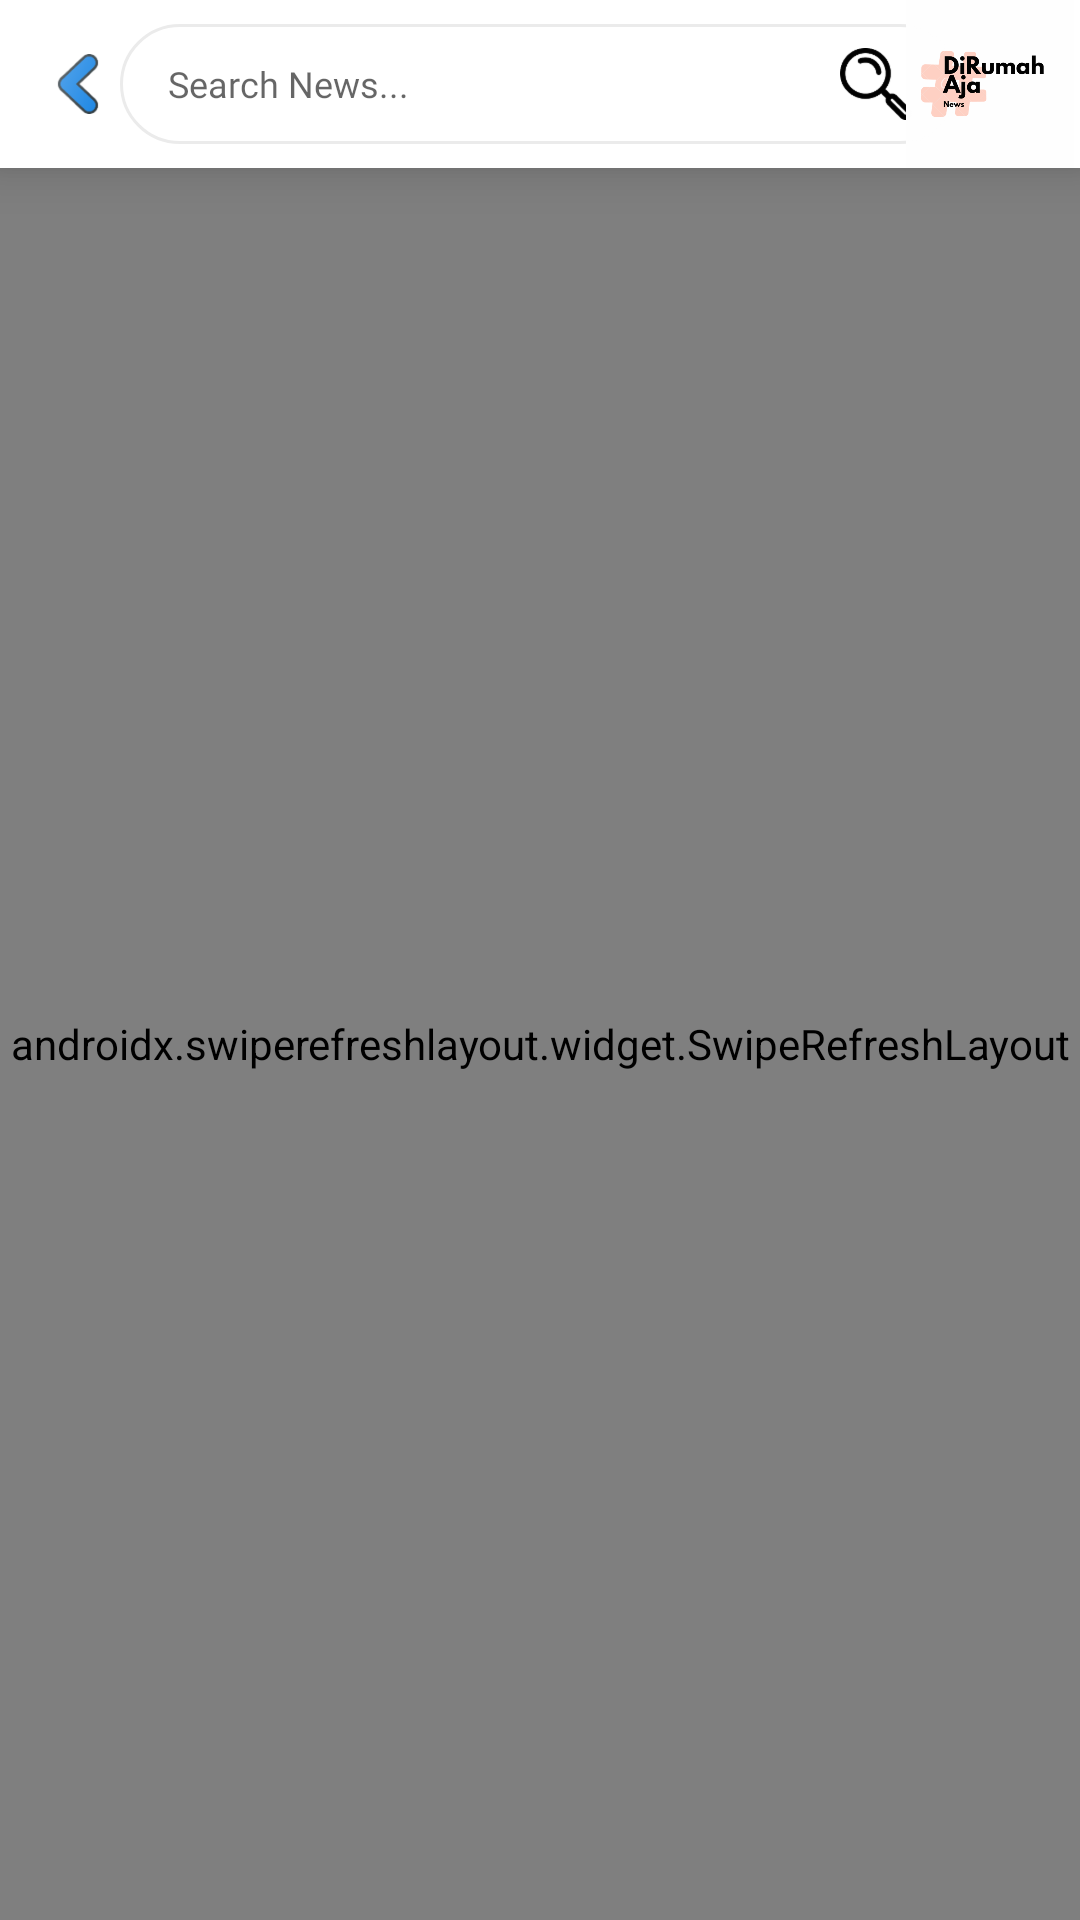

Where icons sit on this 1080×1920 app screen, as (x1, y1, x2, y2):
arrow back: (58, 54, 98, 114)
